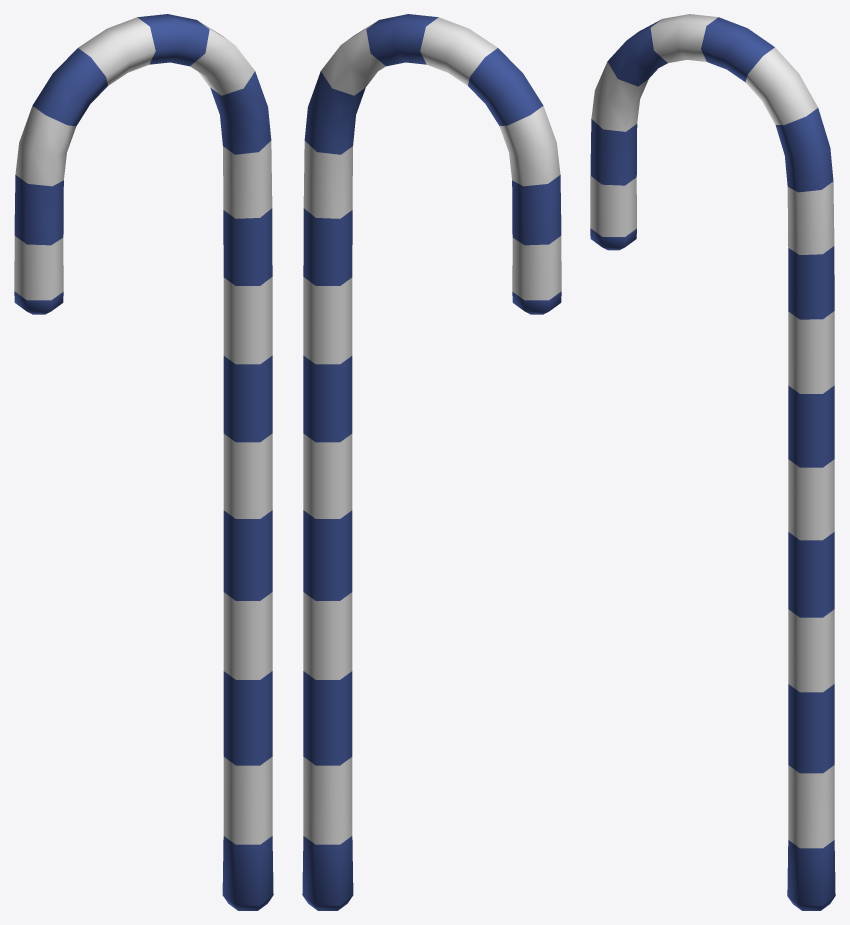
File: CandyCane_03.fbx
The picture shows the model from 3 angles, left to right: view 1: azimuth 30°, elevation 25°; view 2: azimuth 150°, elevation 25°; view 3: azimuth 330°, elevation 25°; orthographic projection. The views are drawn at different scales.
Visible parts, largest first — view 1: CandyCane_03; view 2: CandyCane_03; view 3: CandyCane_03.
Boxes of the visible parts, left/top/right/bottom form: CandyCane_03: left=14, top=14, right=273, bottom=910; CandyCane_03: left=302, top=14, right=561, bottom=910; CandyCane_03: left=590, top=14, right=835, bottom=910.
Bounding box in the file's own units: 0.0721 × 0.2534 × 0.0129.
